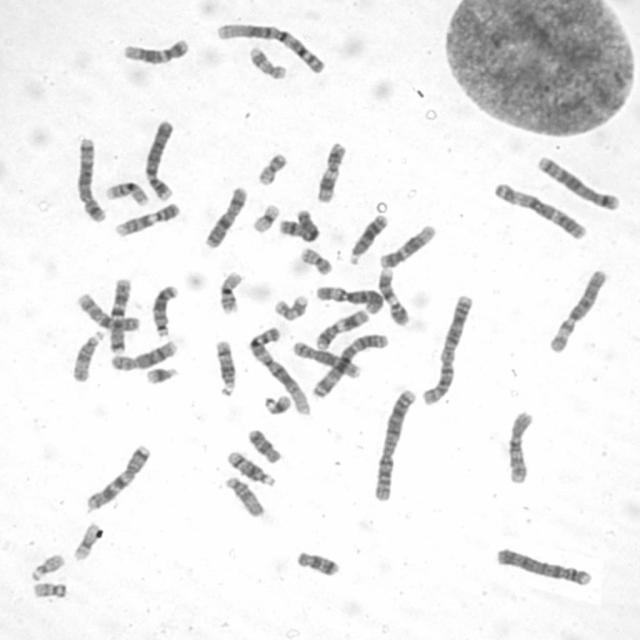A1: (212, 18, 329, 75), (244, 322, 313, 416)
A2: (417, 288, 476, 407), (368, 384, 418, 502)
A3: (489, 176, 589, 242), (308, 328, 391, 399)
B4: (492, 542, 595, 588), (140, 115, 177, 202)
B5: (533, 150, 622, 212), (72, 131, 108, 223)
C10: (72, 288, 142, 333), (500, 405, 536, 485)
C11: (310, 304, 370, 351), (311, 137, 348, 204)
C12: (375, 219, 438, 269), (118, 33, 191, 65)
C6: (544, 264, 609, 354), (312, 280, 384, 316)
C7: (79, 438, 152, 512), (104, 273, 134, 355)
C8: (288, 336, 363, 379), (106, 334, 178, 372)
C9: (110, 198, 182, 239), (374, 262, 412, 326)
D13: (344, 209, 390, 265), (148, 279, 180, 339)
D14: (222, 446, 276, 488), (210, 334, 238, 398)
D15: (66, 325, 105, 383), (220, 472, 266, 518)
E16: (101, 176, 150, 207), (213, 266, 244, 315)
E17: (244, 41, 289, 80), (269, 290, 309, 322)
E18: (243, 423, 283, 465), (292, 545, 342, 578)
F19: (69, 517, 102, 563), (246, 198, 282, 234)
F20: (252, 147, 289, 186), (295, 242, 334, 276)
G21: (141, 360, 180, 386), (259, 389, 293, 417)
G22: (27, 549, 66, 581), (29, 578, 69, 600)
X: (198, 180, 248, 250), (274, 204, 322, 243)
